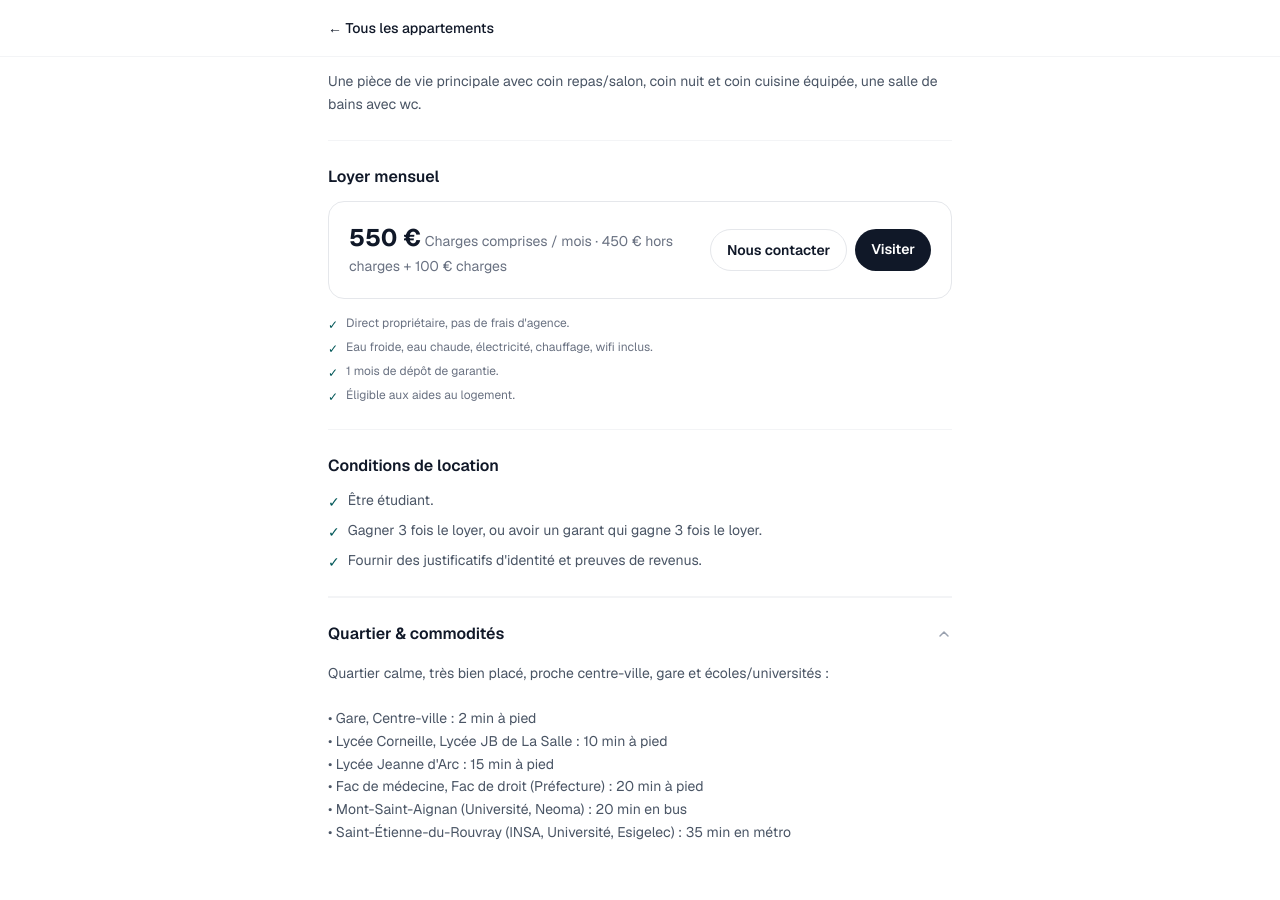
Test case: ApartmentDetail — accordéon Quartier & commodités › se referme au clic sur le titre
(page scrolled)
What coordinates should you click on to do the following:
click the button "Quartier & commodités"
I would click on:
 (416, 633)
Its box is x1=328 y1=622 x2=952 y2=646.
(page scrolled)
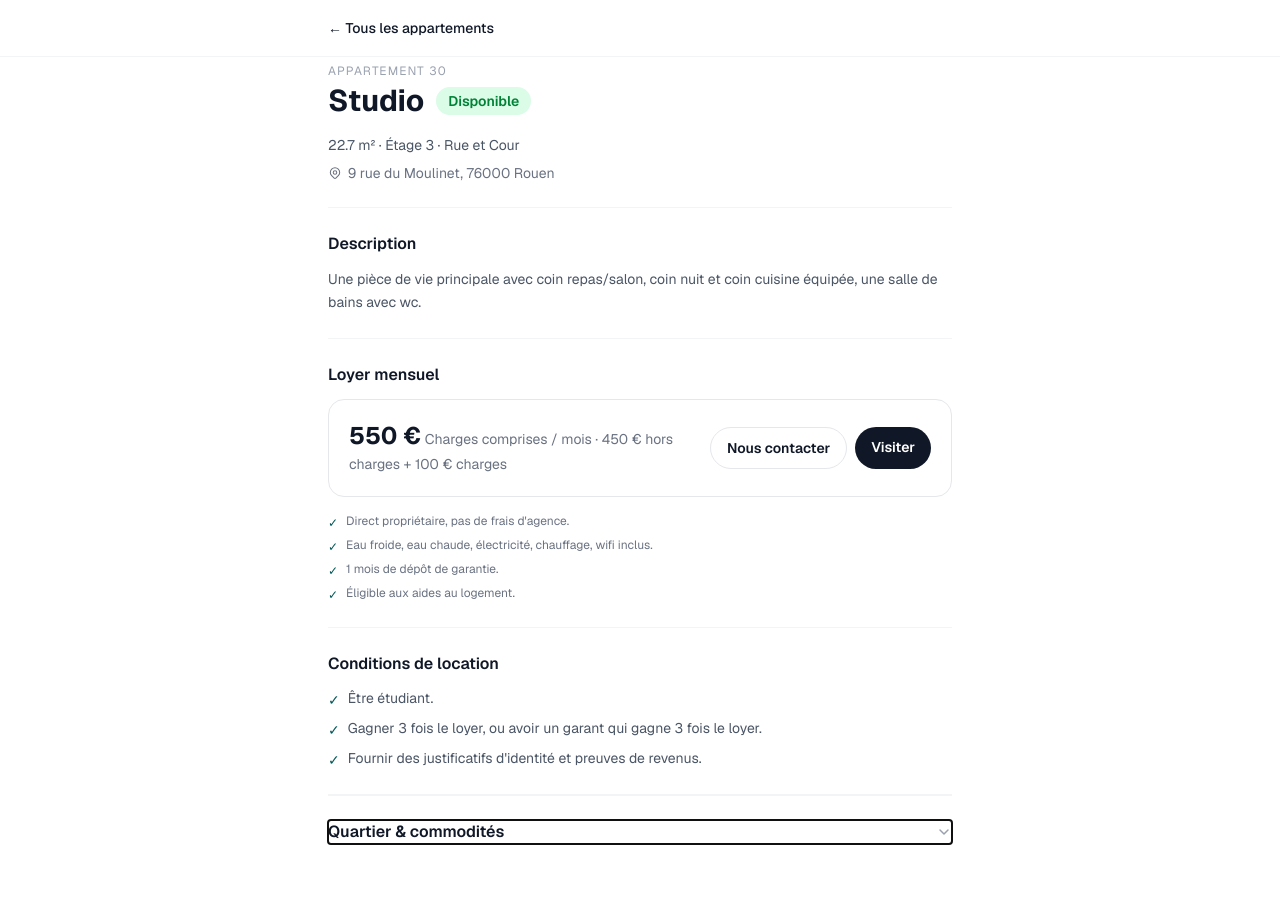
Result: the text "Quartier calme" is gone
